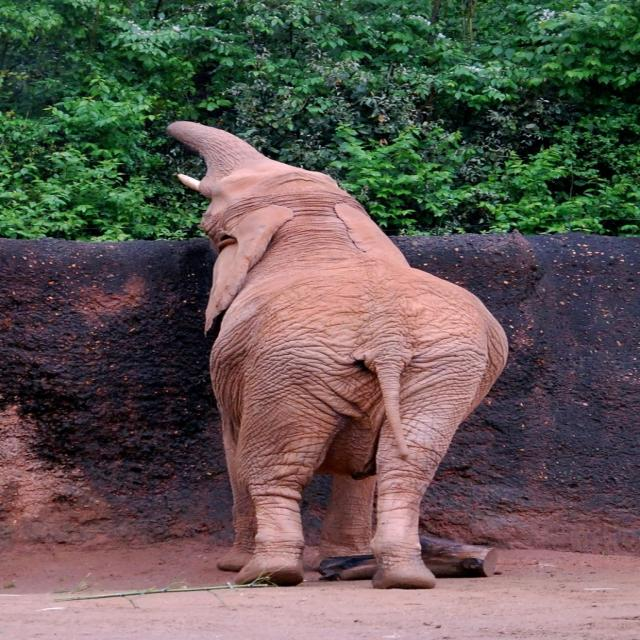elephant: (167, 106, 510, 584)
